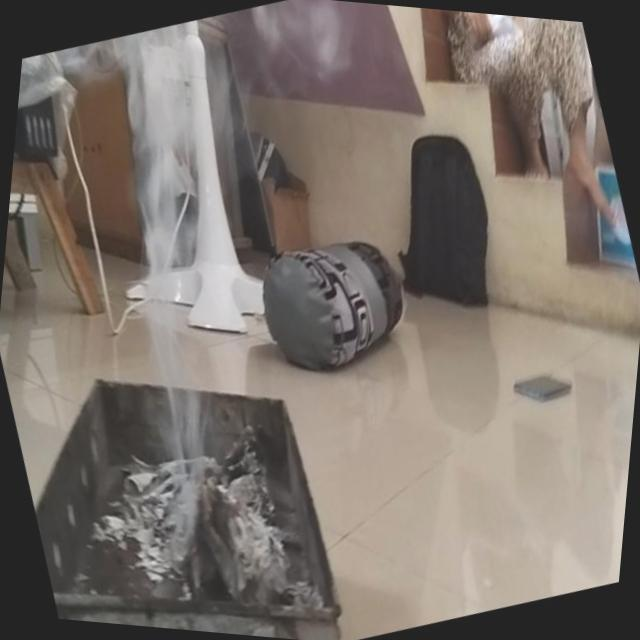smoke: (66, 254, 342, 590), (88, 0, 367, 311)
